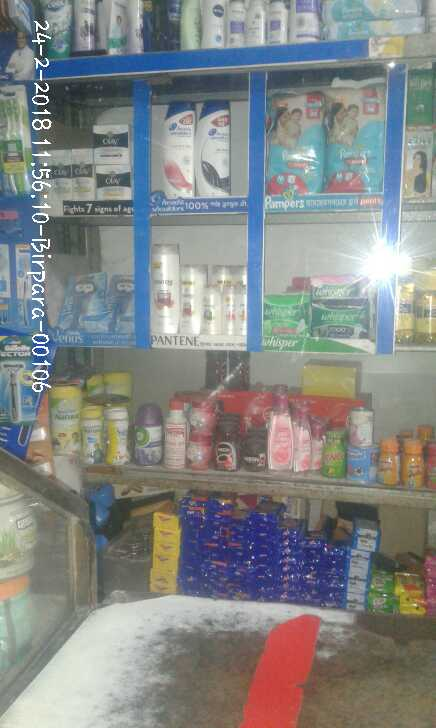venus: (63, 273, 102, 327), (102, 275, 132, 327)
